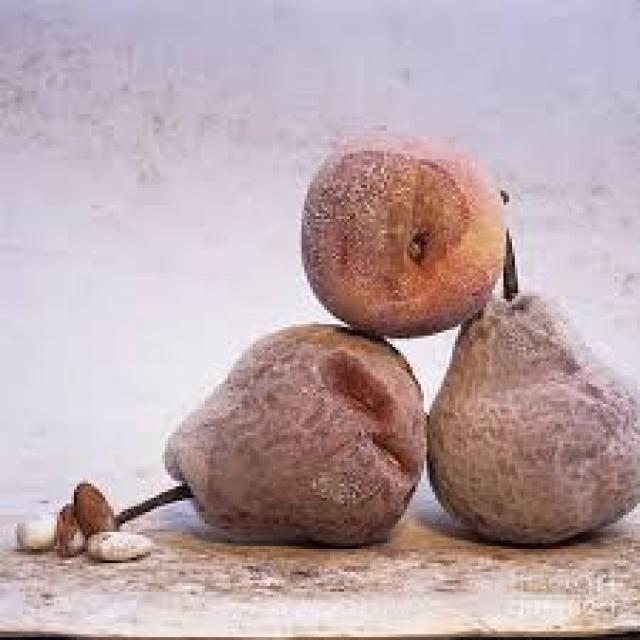organic waste: (424, 185, 637, 546), (114, 319, 421, 549), (296, 122, 503, 336), (71, 478, 117, 543), (85, 529, 151, 563), (51, 500, 85, 558), (12, 501, 52, 549)
